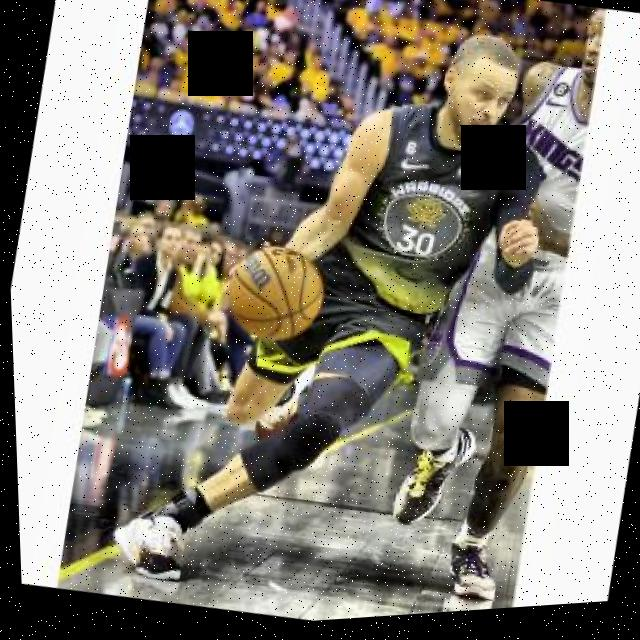shoe: (385, 423, 476, 541), (97, 499, 188, 589), (435, 534, 500, 611)
